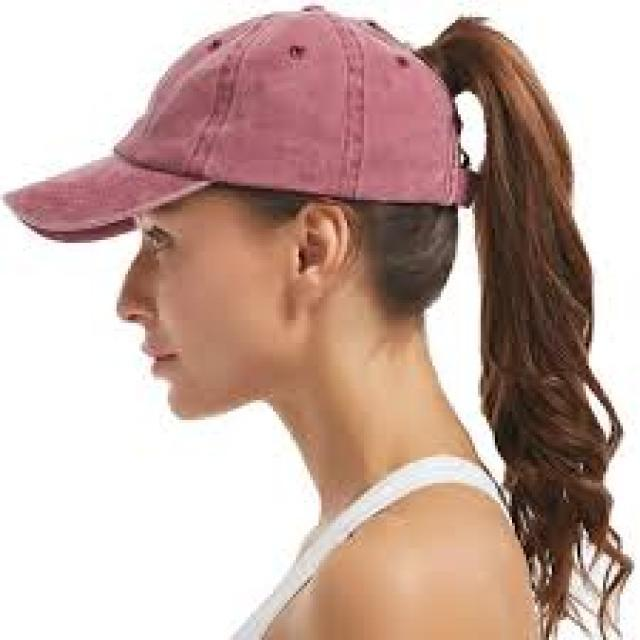cap: (3, 0, 474, 276)
